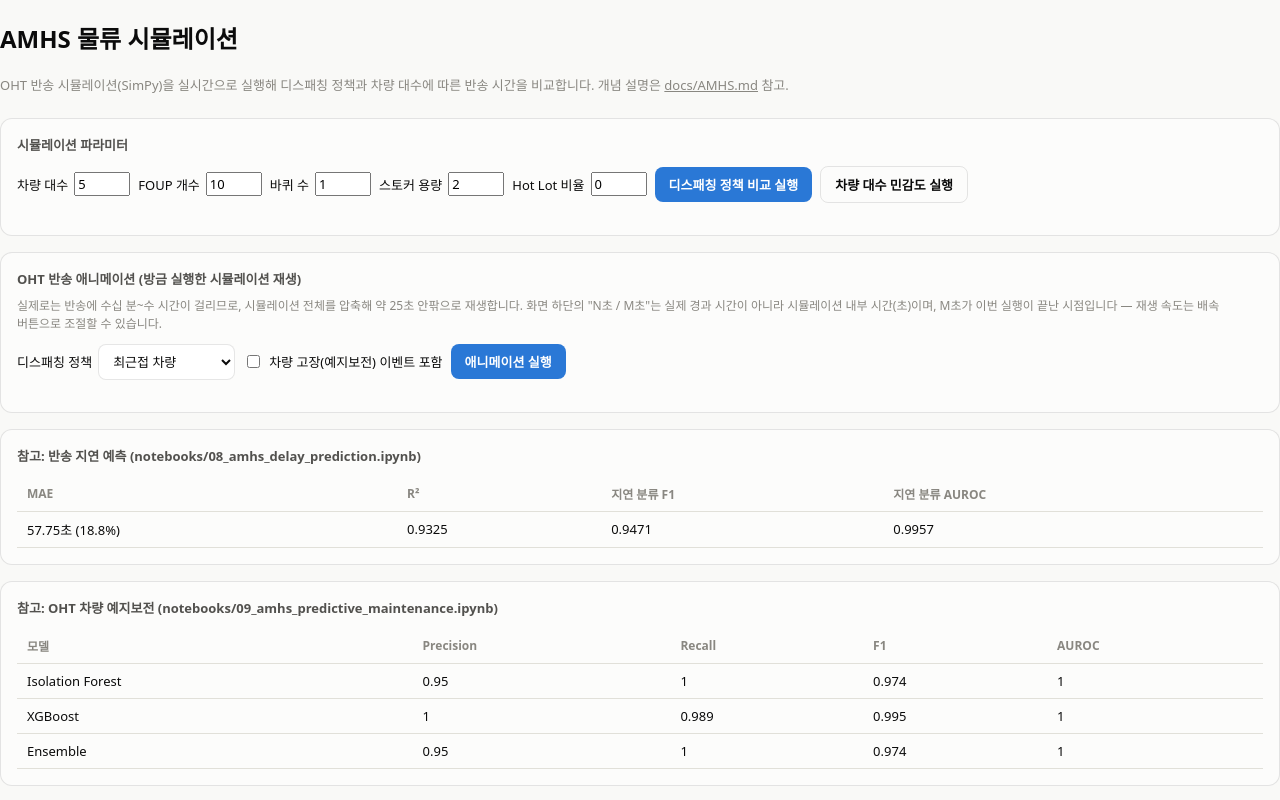
it: Amhs page › shows hot/normal lot columns only after a non-zero hot lot ratio is set
Expected: the text "Hot Lot 평균" is not shown
Replace the text in the number field labelled "Hot Lot 비율" with "0.3" at [618, 184], box [590,172,646,196]
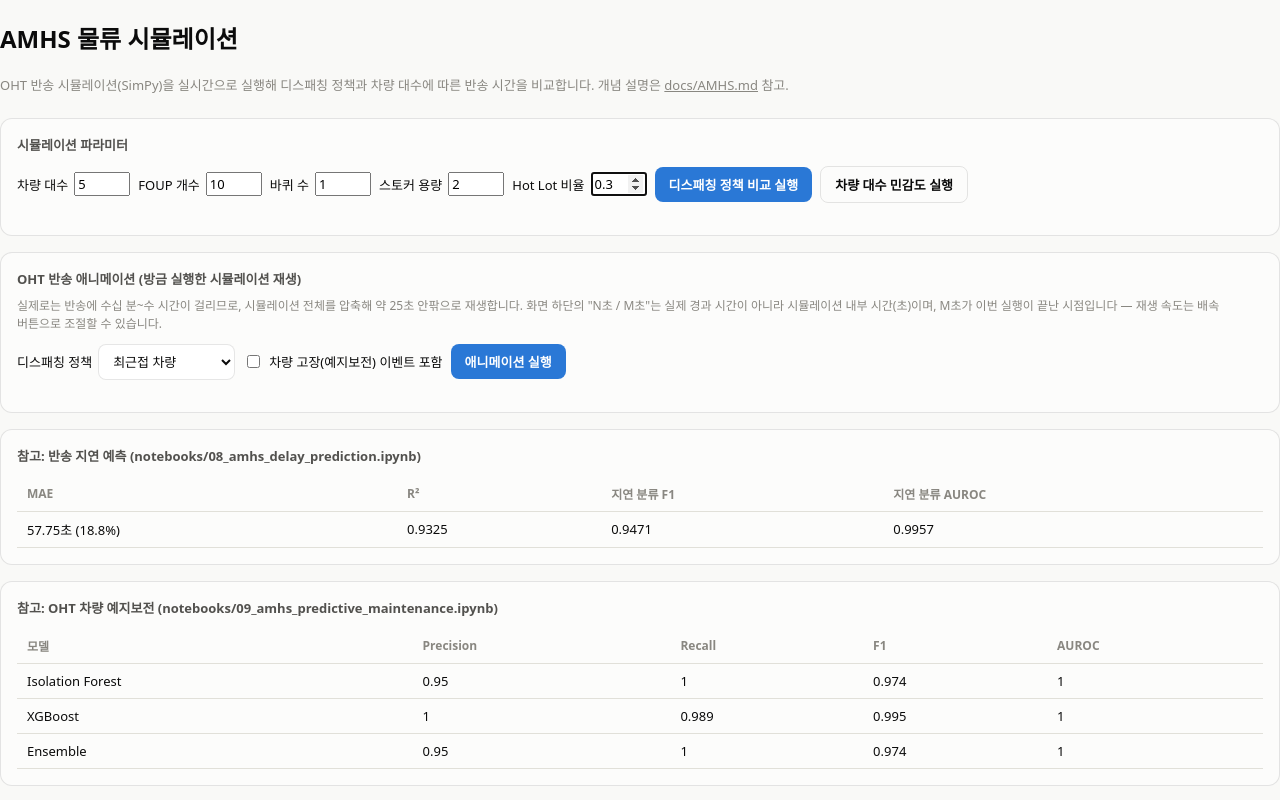
Click the button "디스패칭 정책 비교 실행" at [733, 184], box [654,167,812,202]
(page scrolled)
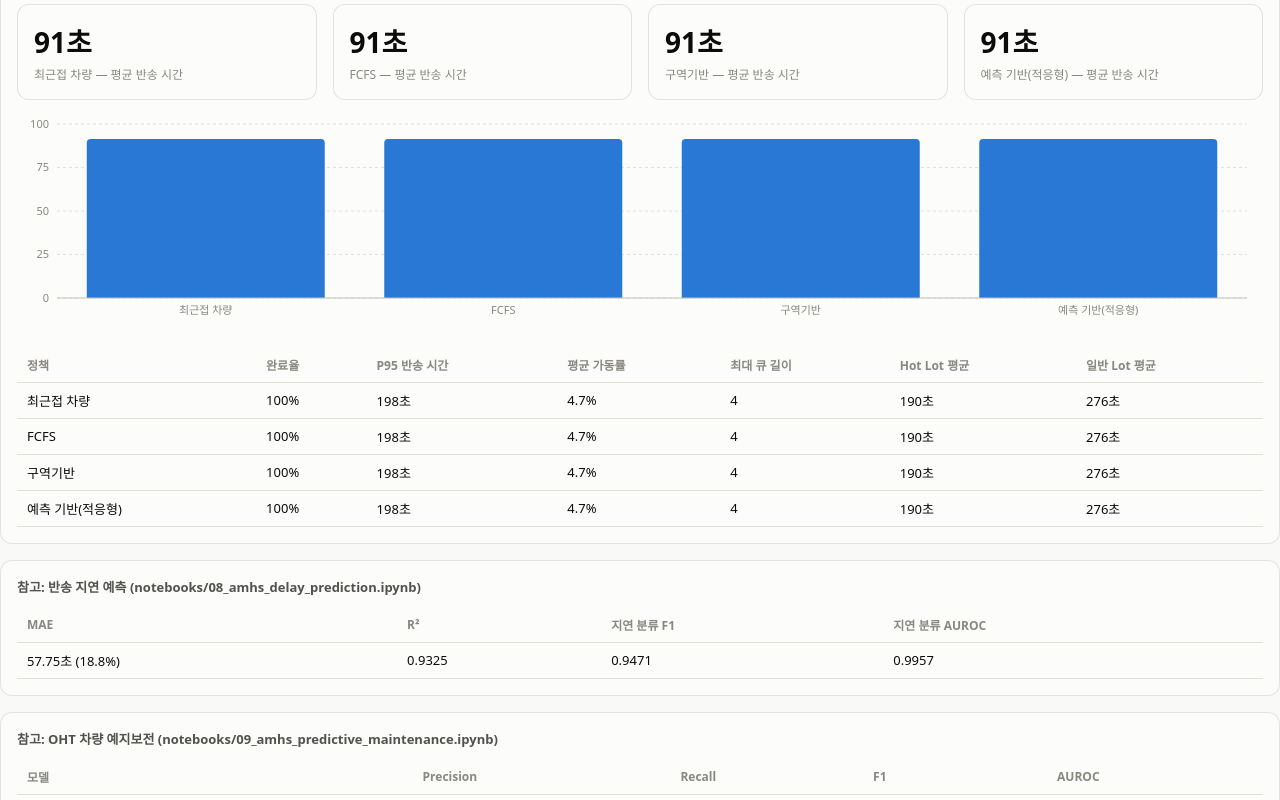
Expected: the column heading "Hot Lot 평균" is shown, [890,348,1076,382]
Expected: the 1st text "190초" is shown, [890,382,1076,418]
